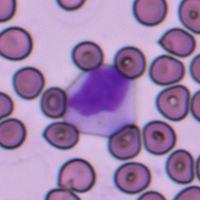M: (62, 64, 136, 133)
